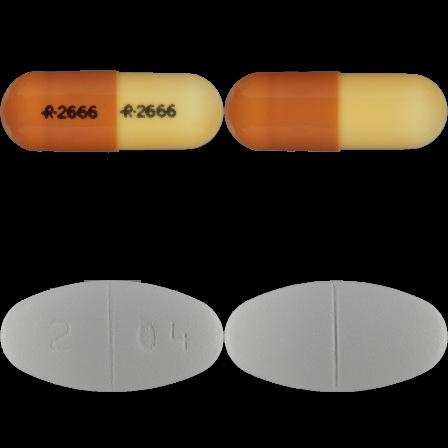16590-102: (0, 0, 224, 224)
